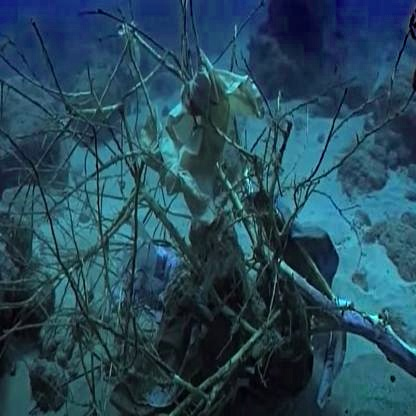plastic: (144, 53, 263, 258)
